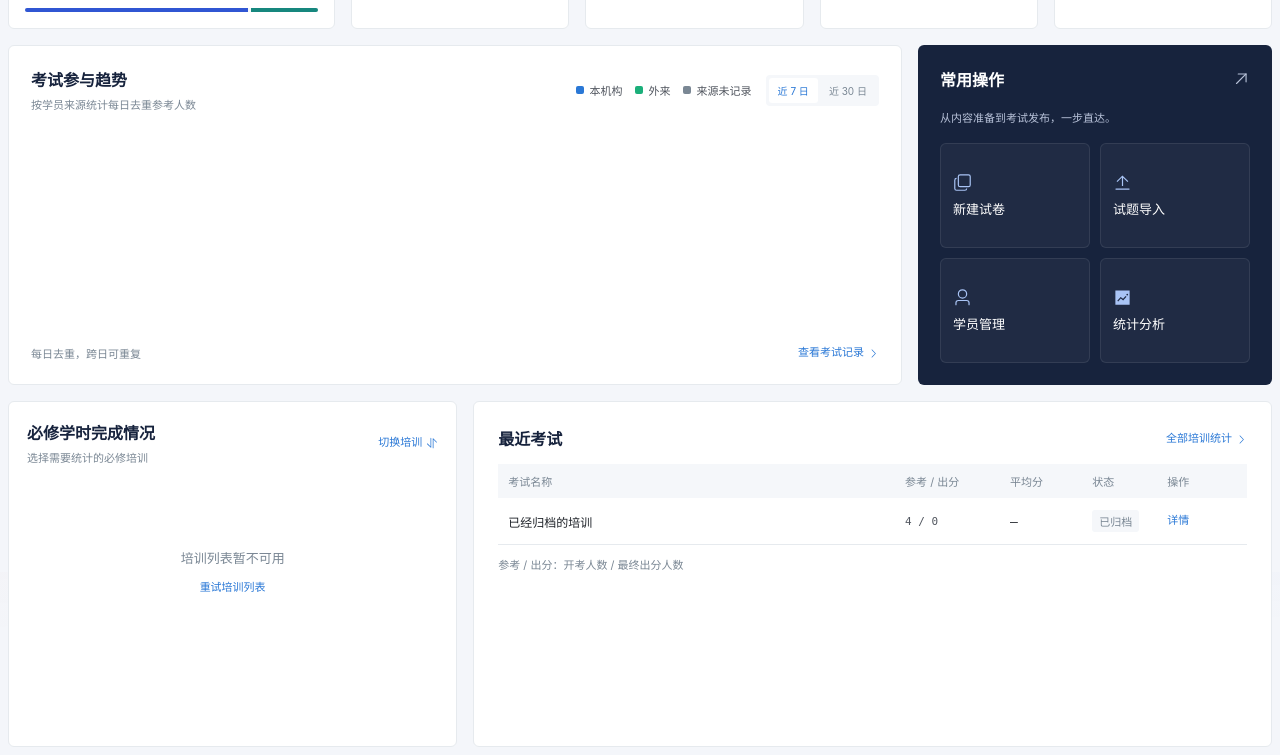
Test: admin operations dashboard › recovers the default learning summary after the initial candidate request fails
(page scrolled)
What coordinates should you click on to do the following:
click the button "重试培训列表"
I would click on:
 (233, 588)
Its box is top-left (200, 579), bottom-right (266, 596).
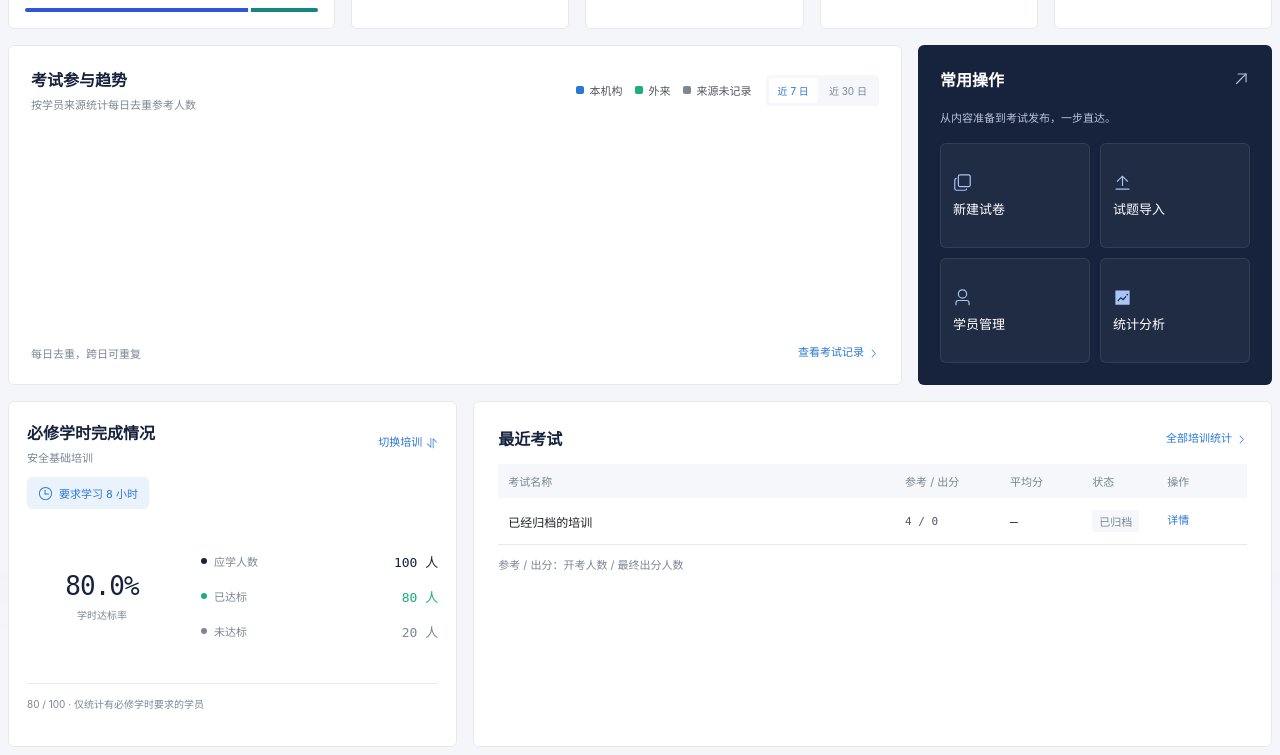
Expected: the element with test id "dashboard-learning" shows "80.0%", top-left (65, 570), bottom-right (139, 600)
